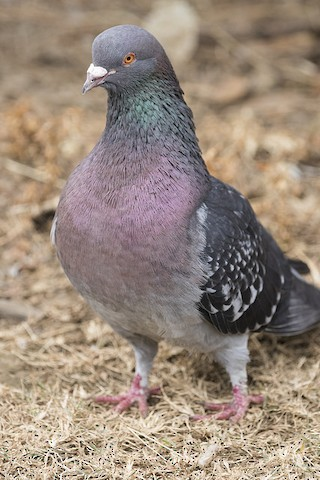pigeon: (49, 25, 307, 421)
